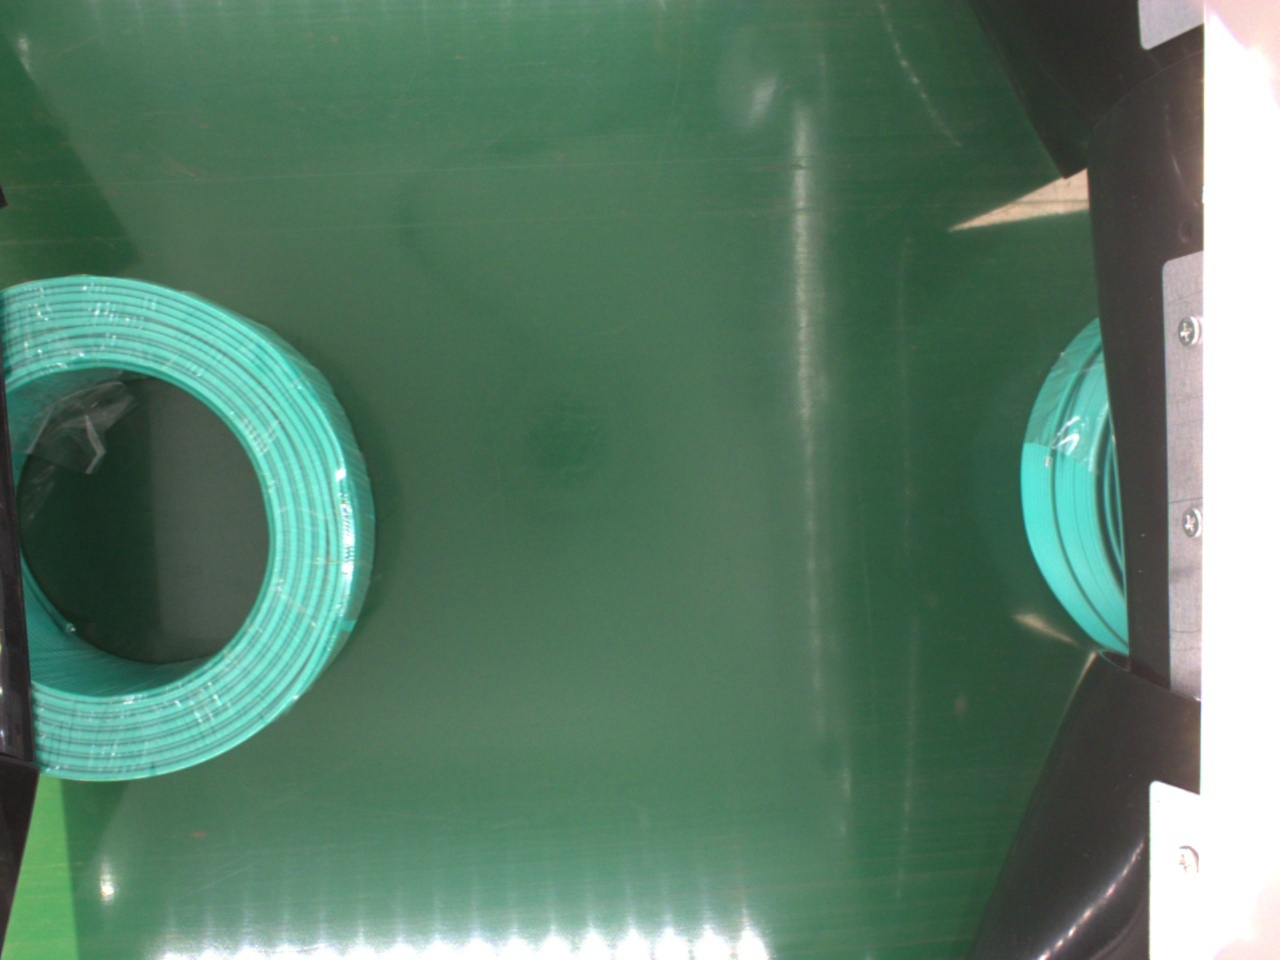green: (6, 276, 379, 784), (1020, 317, 1133, 666)
